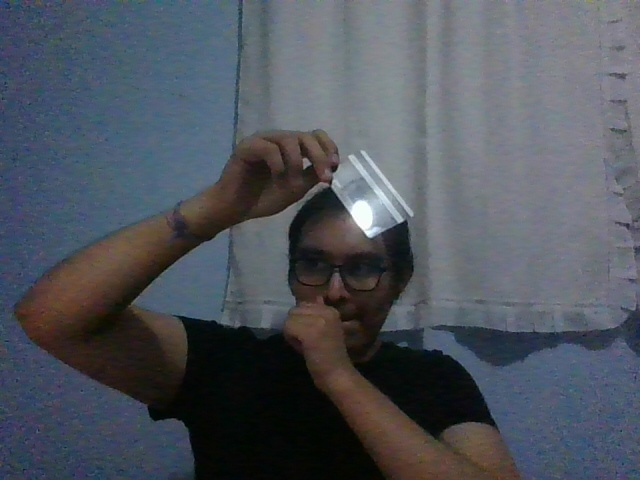tarjeta: (329, 149, 415, 240)
